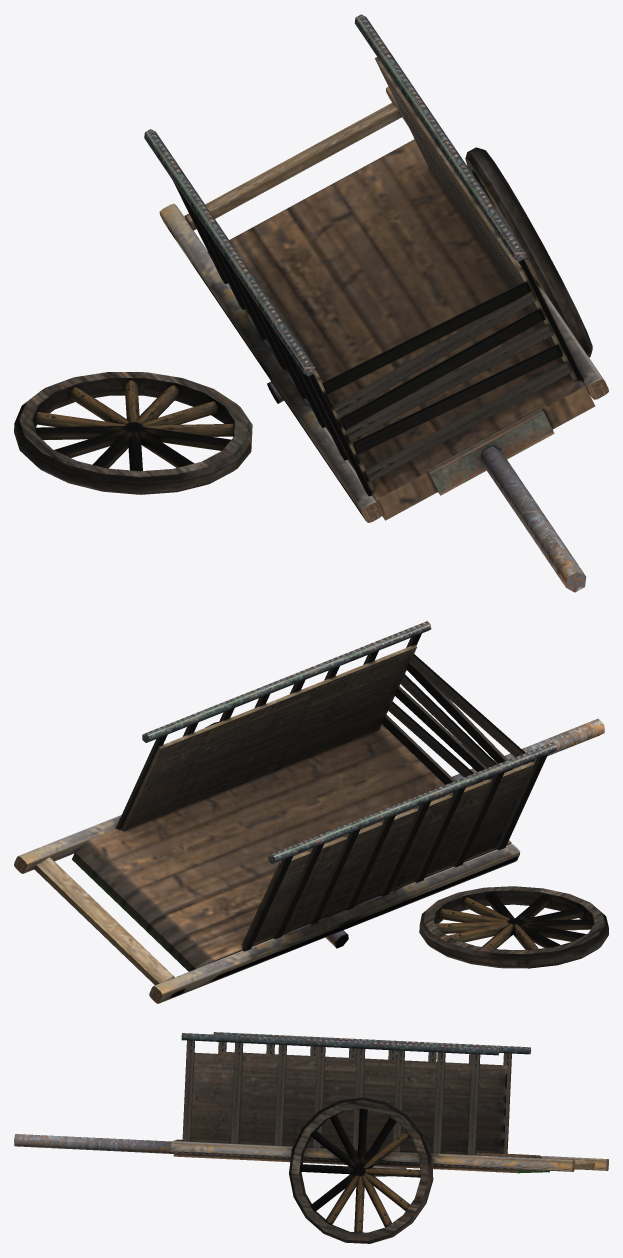
The model's file is carrovolcado.fbx.
The picture shows the model from 3 angles, top to bottom: view 1: azimuth 30°, elevation 25°; view 2: azimuth 150°, elevation 25°; view 3: azimuth 270°, elevation 25°; orthographic projection. The views are drawn at different scales.
Visible parts, largest first — view 1: Box814; view 2: Box814; view 3: Box814.
Part boxes in pixels (x1,y1,x2,y2): Box814: (14,14,608,592); Box814: (14,621,608,1003); Box814: (14,1032,608,1243).
Bounding box in the file's own units: 226 × 111 × 339.
